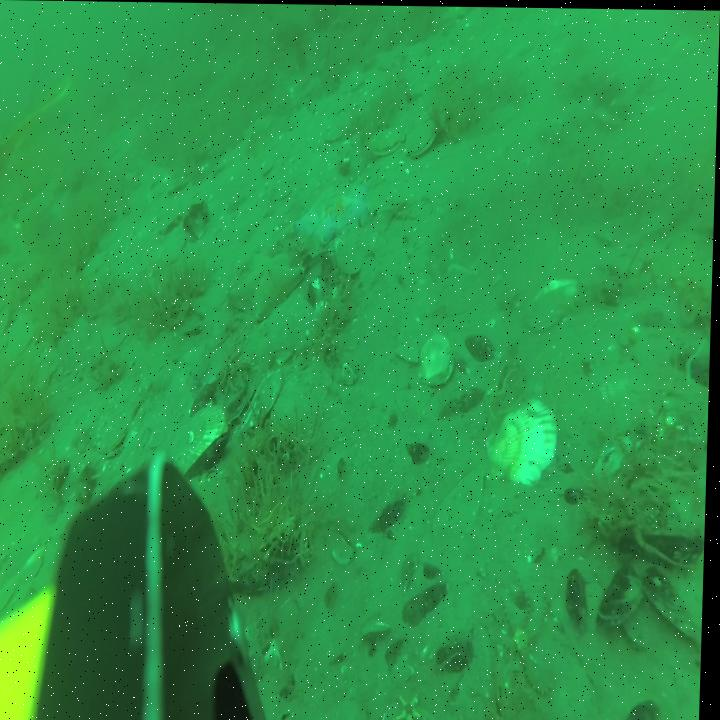scallop: (487, 395, 560, 484), (170, 406, 232, 475), (528, 273, 578, 326), (98, 391, 139, 453), (421, 334, 457, 384), (407, 121, 436, 157), (369, 124, 403, 150)
starfish: (230, 254, 303, 318), (295, 183, 371, 240)
